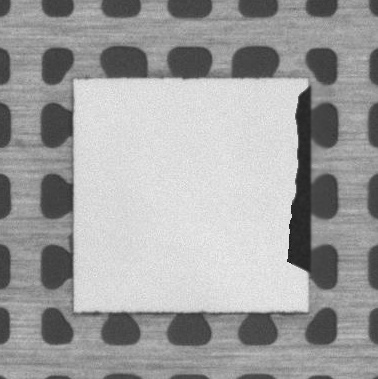DIE_BROKEN: (284, 88, 313, 273)
